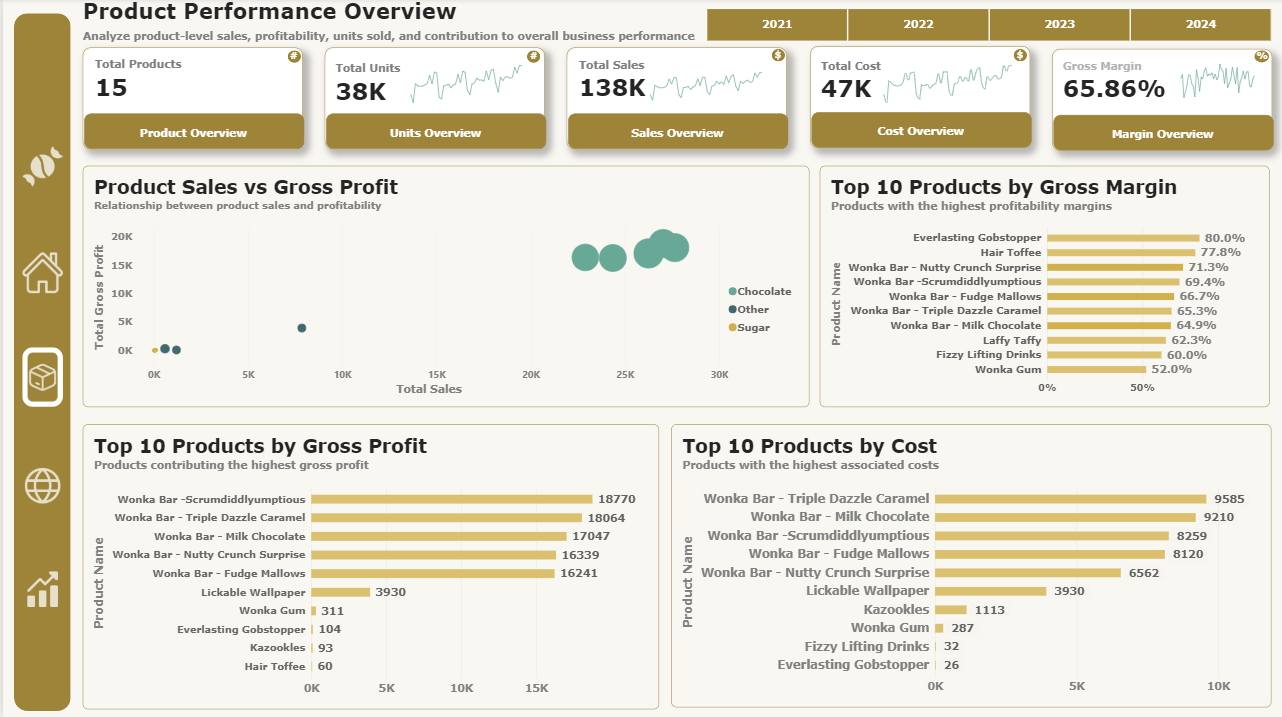

The dashboard page shown, as its layout file describes it:
{"tool":"powerbi","page":{"name":"Product Performance","canvas":[1920,1080],"ordinal":1},"visuals":[{"type":"slicer","fields":{"Values":["06_Clean_Sales.Year"]},"box":[1034.4,13.8,885.5,51.2],"z":0,"group":"g3"},{"type":"shape","box":[1210.2,72.2,330.3,152.8],"z":0,"group":"g5"},{"type":"group","id":"g1","title":"Group 2","box":[119,73.4,330.2,152.8],"z":0,"group":"g13"},{"type":"shape","box":[119,73.4,330.3,152.8],"z":0,"group":"g1"},{"type":"shape","box":[481.2,73.6,330.3,152.8],"z":0,"group":"g12"},{"type":"shape","box":[1574,75.5,330.3,152.8],"z":0,"group":"g4"},{"type":"image","box":[27.7,523.9,60.9,89.7],"z":0,"group":"g6"},{"type":"textbox","box":[119.3,0,658.1,47.4],"z":1000,"group":"g3"},{"type":"shape","box":[846,73.3,330.3,152.8],"z":1000,"group":"g13"},{"type":"shape","box":[1211.2,172.1,329.9,52.8],"z":1000,"group":"g5"},{"type":"shape","box":[120,173.3,329.9,52.8],"z":1000,"group":"g1"},{"type":"shape","box":[482.2,173.5,329.9,52.8],"z":1000,"group":"g12"},{"type":"shape","box":[1575,175.4,329.9,52.8],"z":1000,"group":"g4"},{"type":"image","box":[27.7,367.6,60.9,89.7],"z":1000,"group":"g6"},{"type":"group","id":"g2","title":"Group 1","box":[15.9,22.7,84.6,1048],"z":2000,"group":"g14"},{"type":"textbox","box":[118.7,47.4,928.3,24.8],"z":2000,"group":"g3"},{"type":"image","box":[27.7,203.8,60.9,97.2],"z":2000,"group":"g6"},{"type":"shape","box":[15.9,22.7,85.1,1047.1],"z":2500,"group":"g2"},{"type":"group","id":"g3","title":"Group 13","box":[118.7,0,1801.1,72.2],"z":3000,"group":"g14"},{"type":"textbox","box":[495.2,191.8,302.7,25.7],"z":3000,"group":"g12"},{"type":"image","box":[27.7,680.2,60.9,102.1],"z":3000,"group":"g6"},{"type":"group","id":"g4","title":"Group 2","box":[1574,75.5,330.2,152.8],"z":4000,"group":"g10"},{"type":"clusteredBarChart","title":"Top 10 Products by Cost","fields":{"Category":["06_Clean_Sales.Product Name"],"Y":["06_Clean_Sales.Total Cost"]},"box":[1002.5,640,900,425],"z":4000,"group":"g14"},{"type":"image","box":[27.7,849,60.9,74.7],"z":4000,"group":"g6"},{"type":"cardVisual","fields":{"Data":["06_Clean_Sales.Total Units"]},"box":[481.6,91.2,136.4,72.6],"z":5000,"group":"g12"},{"type":"shape","box":[847.1,173.3,329.9,52.8],"z":5000,"group":"g13"},{"type":"group","id":"g5","title":"Group 2","box":[1210.2,72.2,330.2,152.8],"z":6000,"group":"g13"},{"type":"scatterChart","title":"Product Sales vs Gross Profit","fields":{"X":["06_Clean_Sales.Total Sales"],"Y":["06_Clean_Sales.Total Gross Profit"],"Size":["06_Clean_Sales.Total Units Sold"],"Series":["06_Clean_Sales.Division"],"Category":["06_Clean_Sales.Product Name"]},"box":[120,252.5,1090,362.5],"z":7000,"group":"g14"},{"type":"group","id":"g6","title":"Group 3","box":[27.7,203.8,60.9,719.9],"z":7009,"group":"g2"},{"type":"lineChart","fields":{"Y":["06_Clean_Sales.Total Units"],"Category":["06_Clean_Sales.Month Year.Variation.Date Hierarchy.Year","06_Clean_Sales.Month Year.Variation.Date Hierarchy.Month"]},"box":[584.6,77.6,218.5,95.7],"z":8000,"group":"g12"},{"type":"shape","box":[783.4,78.3,20.2,19],"z":8000,"group":"g7"},{"type":"shape","box":[1877.5,78.5,22.4,18.6],"z":8000,"group":"g9"},{"type":"textbox","box":[860.3,191.7,302.7,25.7],"z":8000,"group":"g13"},{"type":"textbox","box":[1588.3,193.9,302.7,25.7],"z":8000,"group":"g10"},{"type":"clusteredBarChart","title":"Top 10 Products by Gross Margin","fields":{"Category":["06_Clean_Sales.Product Name"],"Y":["06_Clean_Sales.Gross Margin"]},"box":[1225,252.5,675,362.5],"z":9000,"group":"g14"},{"type":"textbox","box":[788.2,78.3,11.1,17.5],"z":10000,"group":"g7"},{"type":"textbox","box":[1874.6,79.4,28.5,17.5],"z":10000,"group":"g9"},{"type":"cardVisual","fields":{"Data":["06_Clean_Sales.Avg Gross Margin"]},"box":[1574.4,90,190.5,69.3],"z":10000,"group":"g10"},{"type":"textbox","box":[1224.5,190.6,302.7,25.7],"z":10000,"group":"g13"},{"type":"clusteredBarChart","title":"Top 10 Products by Gross Profit","fields":{"Y":["06_Clean_Sales.Total Gross Profit"],"Category":["06_Clean_Sales.Product Name"]},"box":[120,640,865,427.5],"z":11000,"group":"g14"},{"type":"cardVisual","fields":{"Data":["06_Clean_Sales.Total Sales"]},"box":[847.2,82.5,245,81],"z":12000,"group":"g13"},{"type":"lineChart","fields":{"Category":["06_Clean_Sales.Month Year.Variation.Date Hierarchy.Year","06_Clean_Sales.Month Year.Variation.Date Hierarchy.Month"],"Y":["06_Clean_Sales.Avg Gross Margin"]},"box":[1741.5,75.4,162.3,90],"z":13000,"group":"g10"},{"type":"textbox","box":[133.3,191.8,302.7,25.7],"z":13000,"group":"g13"},{"type":"group","id":"g7","title":"Group 9","box":[783.4,78.3,20,19.2],"z":14000,"group":"g12"},{"type":"cardVisual","fields":{"Data":["06_Clean_Sales.Total Cost"]},"box":[1209.7,87,293,77],"z":14000,"group":"g13"},{"type":"cardVisual","fields":{"Data":["06_Clean_Sales.Total Products"]},"box":[120.9,84,305,76],"z":15000,"group":"g13"},{"type":"group","id":"g8","title":"Group 10","box":[1515.7,76.2,20.8,19.2],"z":16000,"group":"g13"},{"type":"shape","box":[1515.7,76.2,20.2,19],"z":16000,"group":"g8"},{"type":"textbox","box":[1520.5,76.2,11.1,17.5],"z":17000,"group":"g8"},{"type":"shape","box":[1152.6,76.8,20.2,19],"z":17000,"group":"g13"},{"type":"group","id":"g9","title":"Group 7","box":[1874.6,78.5,28.5,19.2],"z":17000,"group":"g10"},{"type":"lineChart","fields":{"Y":["06_Clean_Sales.Total Cost"],"Category":["06_Clean_Sales.Month Year.Variation.Date Hierarchy.Year","06_Clean_Sales.Month Year.Variation.Date Hierarchy.Month"]},"box":[1295.9,78.7,244.3,95.2],"z":18000,"group":"g13"},{"type":"group","id":"g10","title":"Group 11","box":[1574,75.4,330.2,152.9],"z":19000,"group":"g13"},{"type":"textbox","box":[1157.3,76.8,11.1,17.5],"z":20000,"group":"g13"},{"type":"group","id":"g11","title":"Group 5","box":[423.8,79.2,22.3,19.2],"z":21000,"group":"g13"},{"type":"group","id":"g12","title":"Group 6","box":[481.2,73.6,331.7,151.7],"z":22000,"group":"g13"},{"type":"stackedAreaChart","fields":{"Category":["06_Clean_Sales.Month Year.Variation.Date Hierarchy.Year","06_Clean_Sales.Month Year.Variation.Date Hierarchy.Month"],"Y":["06_Clean_Sales.Total Sales"]},"box":[940.7,81.8,227.7,91.5],"z":23000,"group":"g13"},{"type":"group","id":"g13","title":"Group 4","box":[119,72.2,1785.2,156.1],"z":23001,"group":"g14"},{"type":"group","id":"g14","title":"Group 8","box":[15.9,0,1904,1070.7],"z":23002},{"type":"shape","box":[425.4,79.2,20.2,19],"z":27000,"group":"g11"},{"type":"textbox","box":[423.8,79.7,22.3,18.5],"z":28000,"group":"g11"}]}

Visuals, with their boxes in screenshot pixels (x1, y1, x2, y2), scaled from the page's 1920x1080 canvas onto the 1282x717 screenshot:
slicer - 06_Clean_Sales.Year: (691,9,1281,43)
shape: (808,48,1029,149)
"Group 2" group: (79,49,300,150)
shape: (79,49,300,150)
shape: (321,49,542,150)
shape: (1051,50,1272,152)
image: (18,348,59,407)
textbox: (80,0,519,31)
shape: (565,49,785,150)
shape: (809,114,1029,149)
shape: (80,115,300,150)
shape: (322,115,542,150)
shape: (1052,116,1272,151)
image: (18,244,59,304)
"Group 1" group: (11,15,67,711)
textbox: (79,31,699,48)
image: (18,135,59,200)
shape: (11,15,67,710)
"Group 13" group: (79,0,1281,48)
textbox: (331,127,533,144)
image: (18,452,59,519)
"Group 2" group: (1051,50,1271,152)
"Top 10 Products by Cost" clusteredBarChart: (669,425,1270,707)
image: (18,564,59,613)
cardVisual - 06_Clean_Sales.Total Units: (322,61,413,109)
shape: (566,115,786,150)
"Group 2" group: (808,48,1029,149)
"Product Sales vs Gross Profit" scatterChart: (80,168,808,408)
"Group 3" group: (18,135,59,613)
lineChart - 06_Clean_Sales.Total Units x 06_Clean_Sales.Month Year.Variation.Date Hierarchy.Year: (390,52,536,115)
shape: (523,52,537,65)
shape: (1254,52,1269,64)
textbox: (574,127,777,144)
textbox: (1061,129,1263,146)
"Top 10 Products by Gross Margin" clusteredBarChart: (818,168,1269,408)
textbox: (526,52,534,64)
textbox: (1252,53,1271,64)
cardVisual - 06_Clean_Sales.Avg Gross Margin: (1051,60,1178,106)
textbox: (818,127,1020,144)
"Top 10 Products by Gross Profit" clusteredBarChart: (80,425,658,709)
cardVisual - 06_Clean_Sales.Total Sales: (566,55,729,109)
lineChart - 06_Clean_Sales.Month Year.Variation.Date Hierarchy.Year x 06_Clean_Sales.Month Year.Variation.Date Hierarchy.Month: (1163,50,1271,110)
textbox: (89,127,291,144)
"Group 9" group: (523,52,536,65)
cardVisual - 06_Clean_Sales.Total Cost: (808,58,1003,109)
cardVisual - 06_Clean_Sales.Total Products: (81,56,284,106)
"Group 10" group: (1012,51,1026,63)
shape: (1012,51,1026,63)
textbox: (1015,51,1023,62)
shape: (770,51,783,64)
"Group 7" group: (1252,52,1271,65)
lineChart - 06_Clean_Sales.Total Cost x 06_Clean_Sales.Month Year.Variation.Date Hierarchy.Year: (865,52,1028,115)
"Group 11" group: (1051,50,1271,152)
textbox: (773,51,780,63)
"Group 5" group: (283,53,298,65)
"Group 6" group: (321,49,543,150)
stackedAreaChart - 06_Clean_Sales.Month Year.Variation.Date Hierarchy.Year x 06_Clean_Sales.Month Year.Variation.Date Hierarchy.Month: (628,54,780,115)
"Group 4" group: (79,48,1271,152)
"Group 8" group: (11,0,1281,711)
shape: (284,53,298,65)
textbox: (283,53,298,65)
